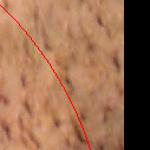alive: (1, 6, 121, 146)
